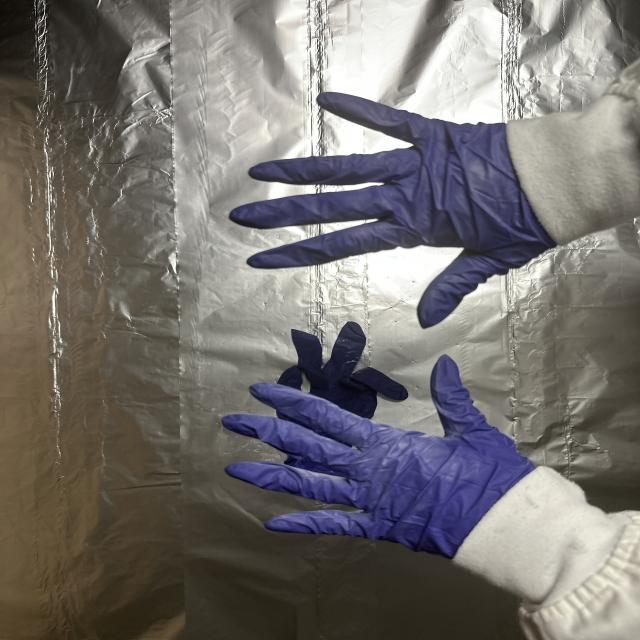gloves_contaminated: (231, 93, 556, 327), (224, 356, 534, 558)
